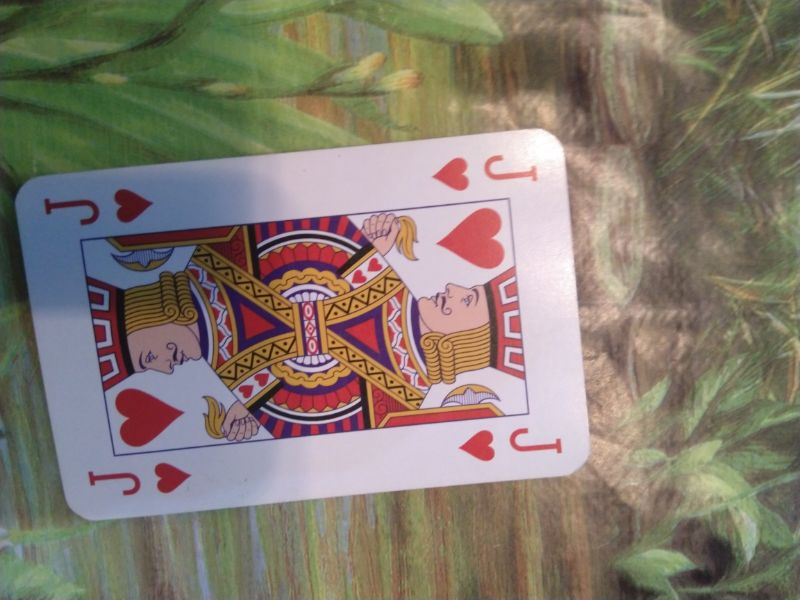Jh: (40, 179, 160, 229), (429, 147, 545, 195), (84, 455, 198, 503), (456, 418, 567, 463)
